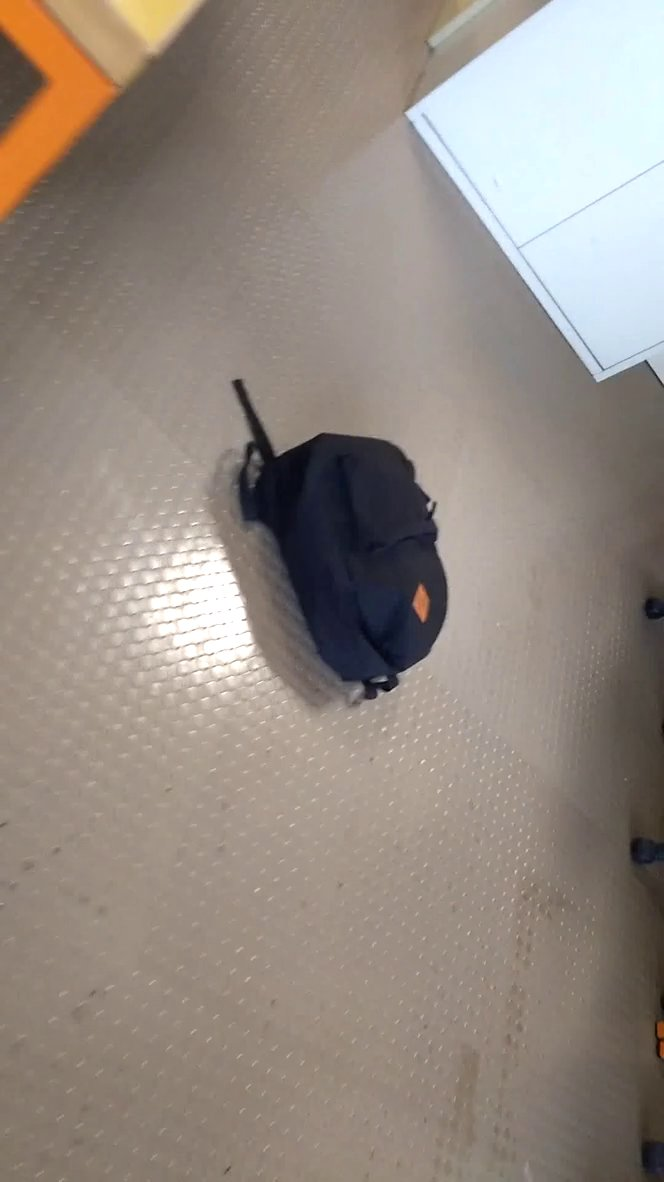bag: (223, 366, 459, 706)
